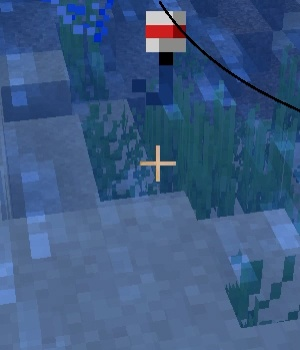up: (134, 6, 189, 107)
